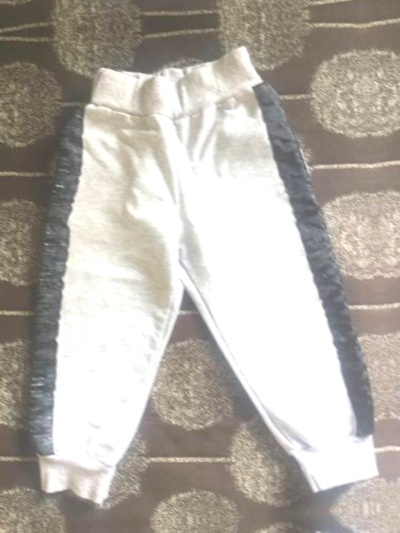Pants: (6, 25, 387, 499), (367, 1, 400, 475), (0, 0, 356, 21)
